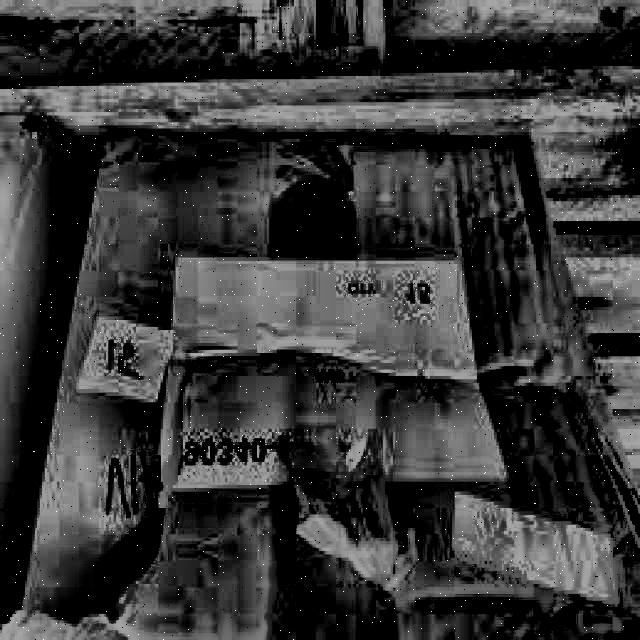box: (7, 108, 614, 640)
hole: (87, 497, 195, 631)
